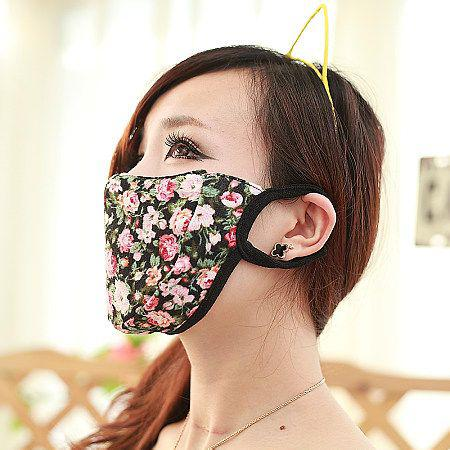OK: (90, 119, 296, 334)
